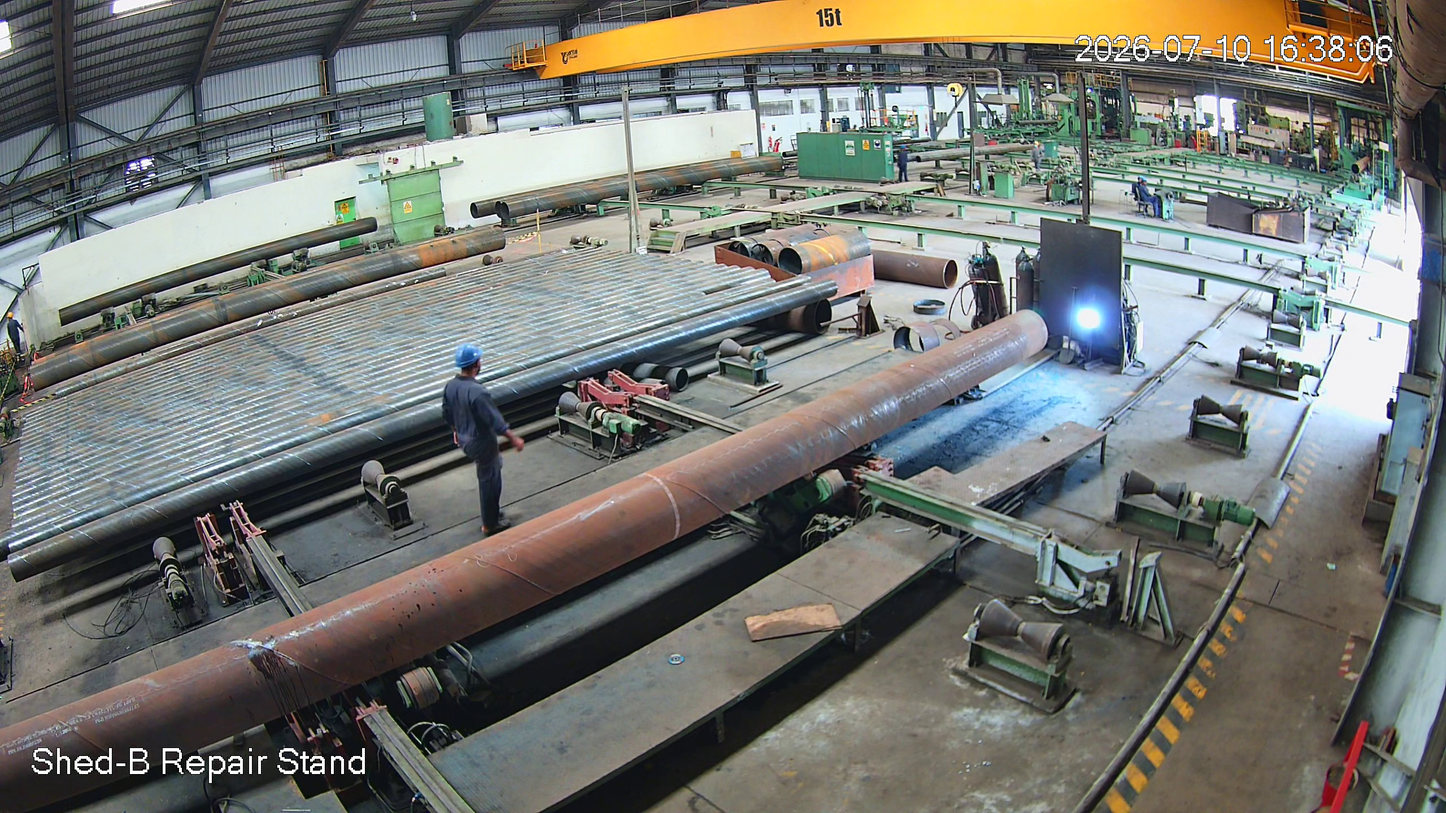Helmet: (453, 333, 501, 401)
Person: (446, 341, 548, 538)
